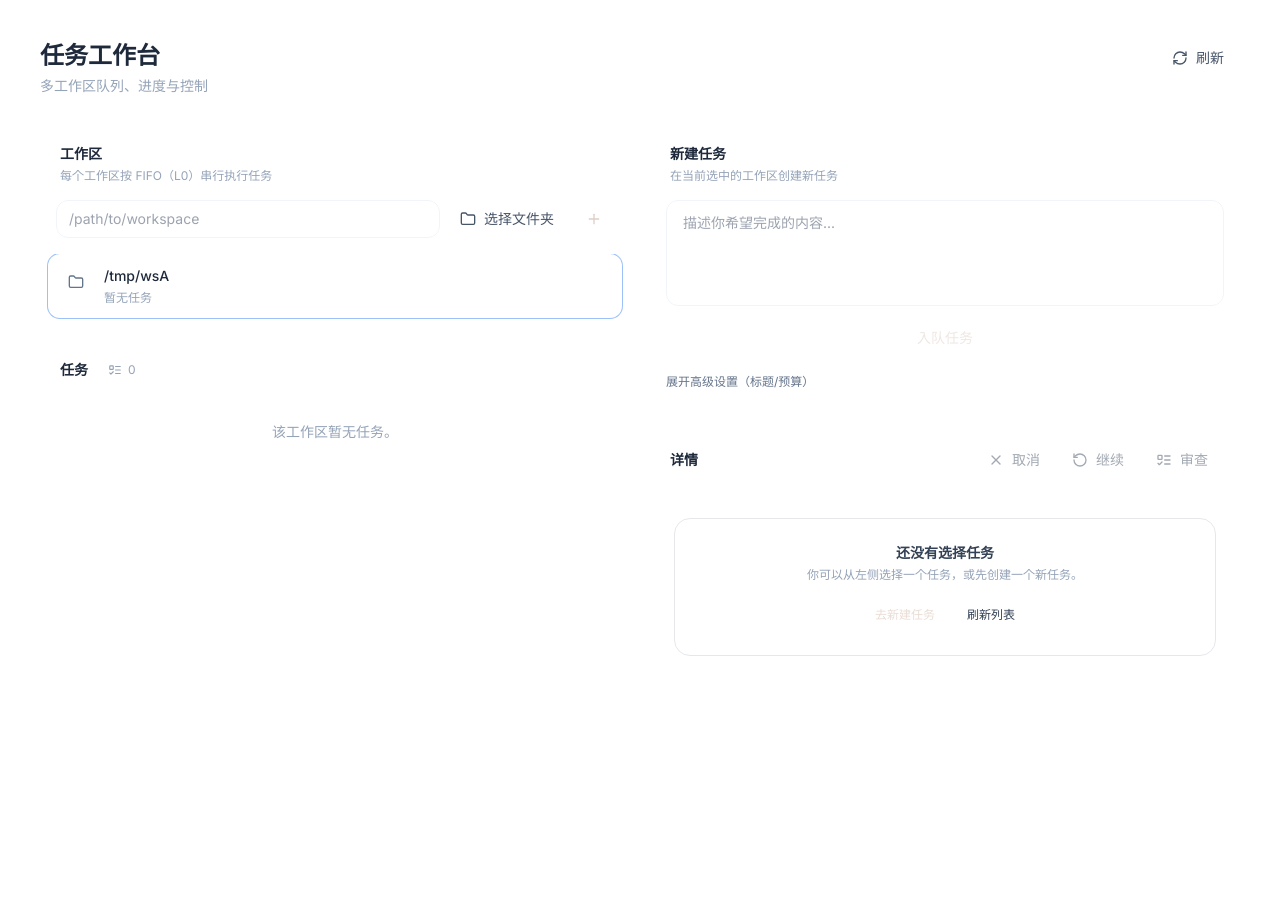
Test: keeps advanced composer fields collapsed by default
What coordinates should you click on to do the following:
click the button with test id "workbench-composer-advanced-toggle"
I would click on:
 (740, 382)
Its box is [666, 370, 1224, 394].
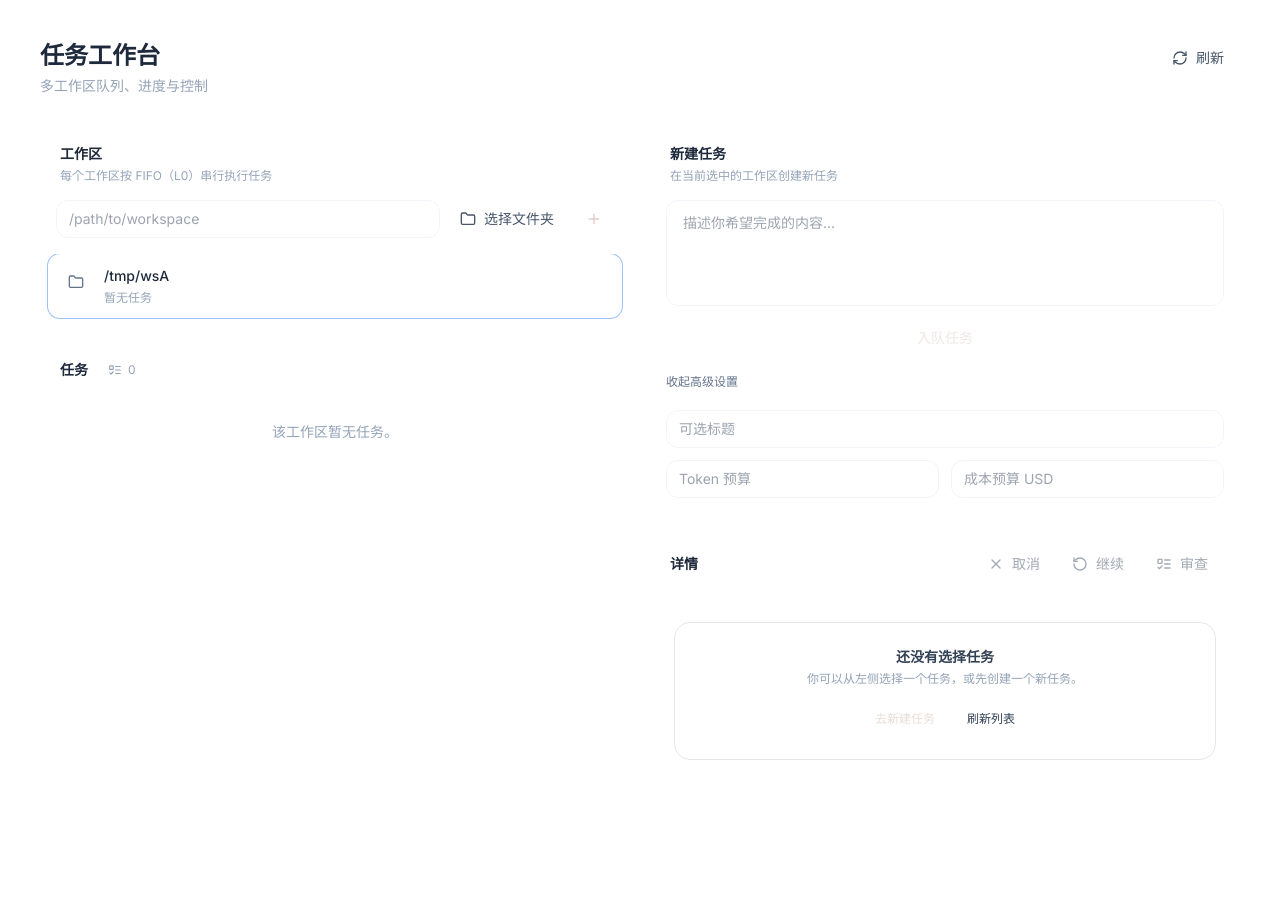
Expected: the element with test id "workbench-composer-advanced" is shown, [666, 406, 1224, 498]
